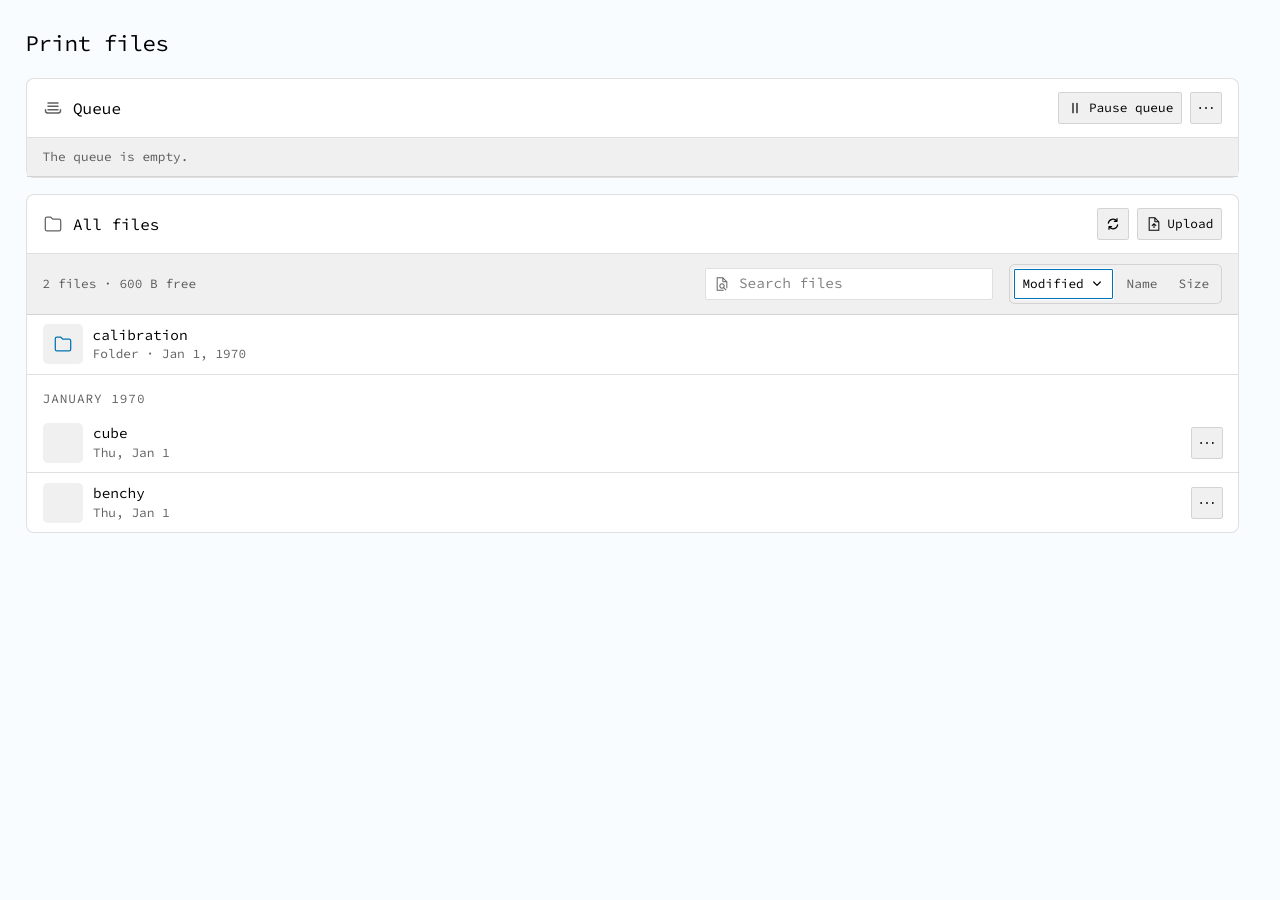
Scenario: Print files view › the pre-print maintenance reminder › asks before starting once the reminder is on and something is overdue
This screenshot has width=1280, height=900.
Click the button with class "machine-row__toggle" showing "cube Thu, Jan 1" at (63, 443), box [43,423,1050,463]
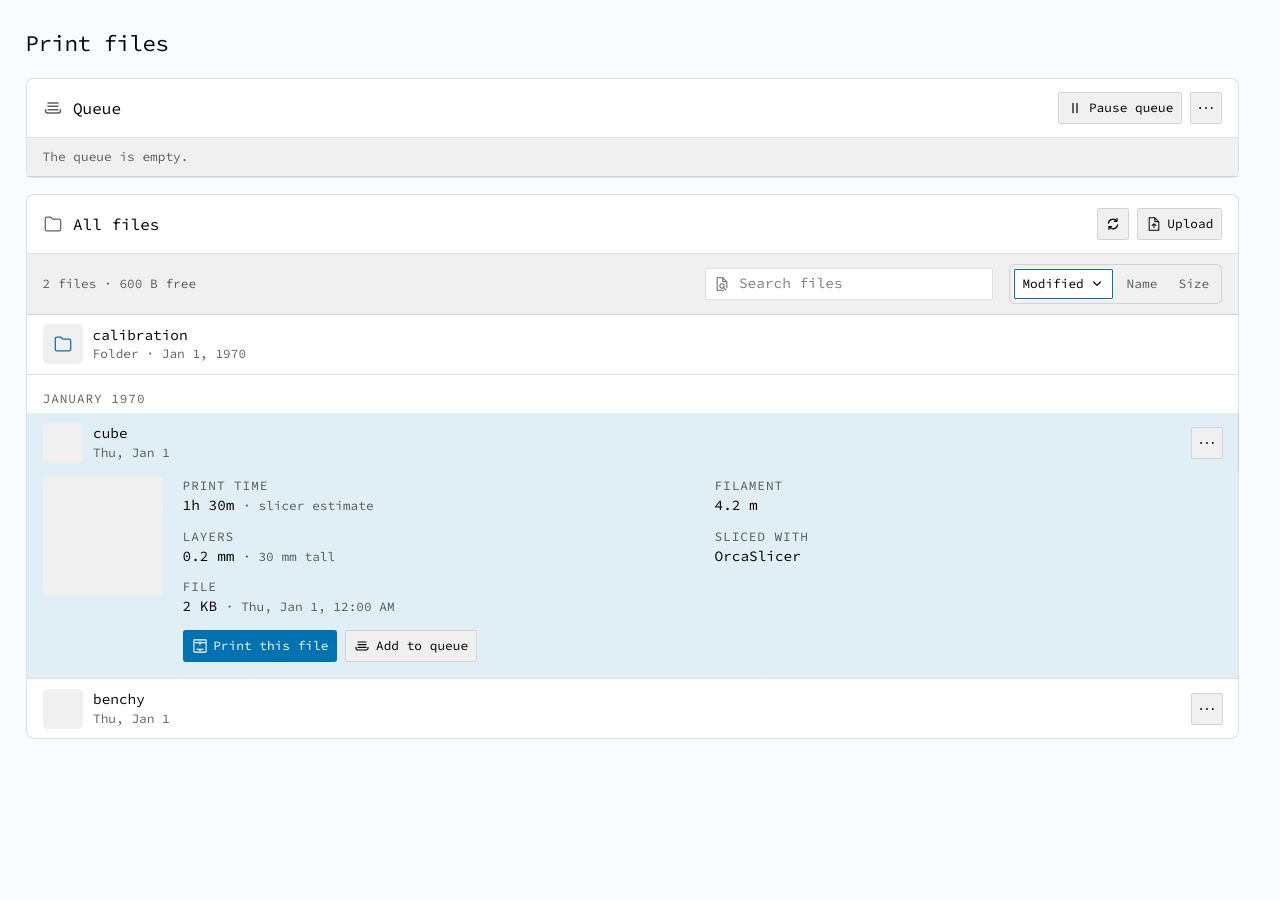
Click the button "Print this file" at (260, 646), box [183,630,337,662]
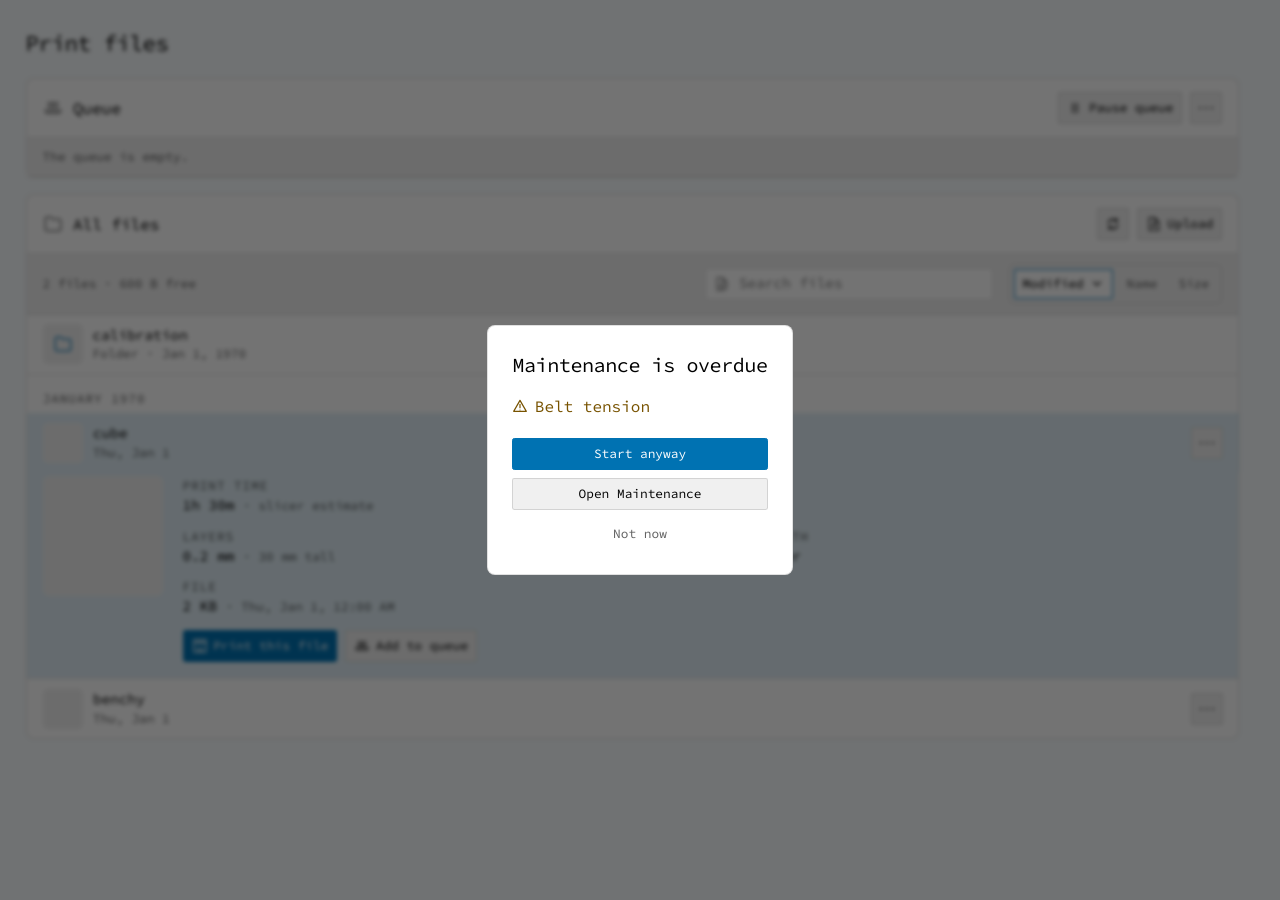
Expected: the text "Maintenance is overdue" is shown, [512,350,768,380]
Expected: the text "Belt tension" is shown, [535,394,650,418]
